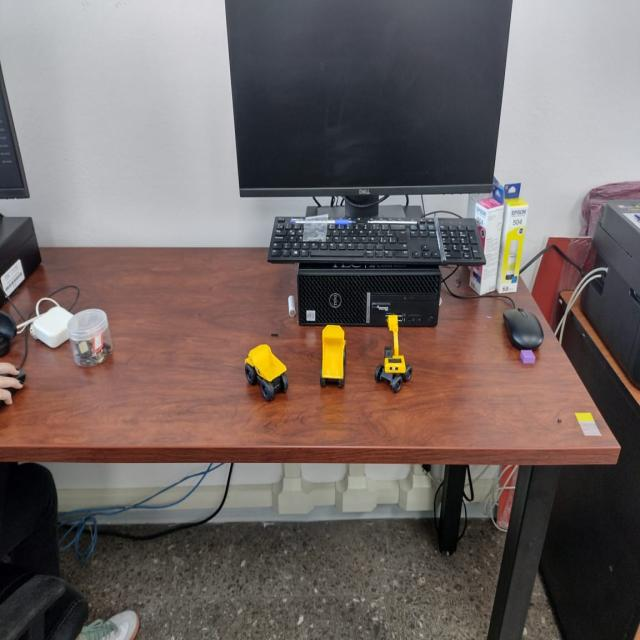dump-truck: (240, 336, 294, 404), (314, 313, 352, 398)
excavator: (370, 308, 414, 394)
